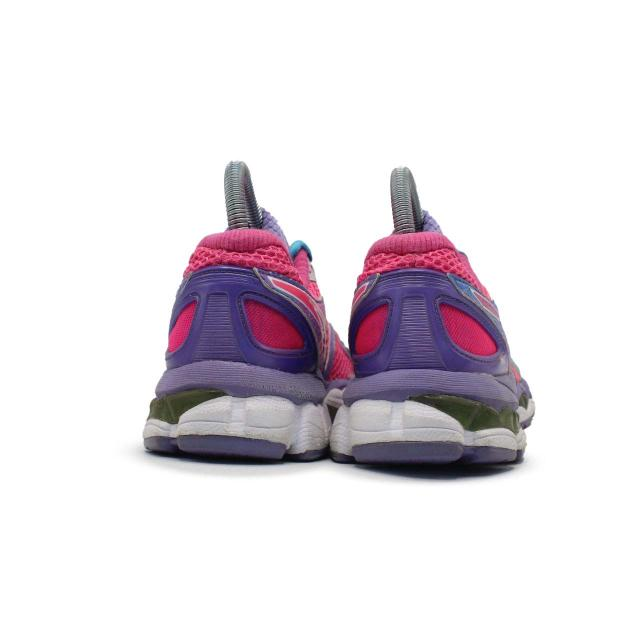heel: (334, 218, 493, 374), (168, 199, 309, 374)
midsole: (325, 372, 532, 461), (145, 366, 323, 460)
